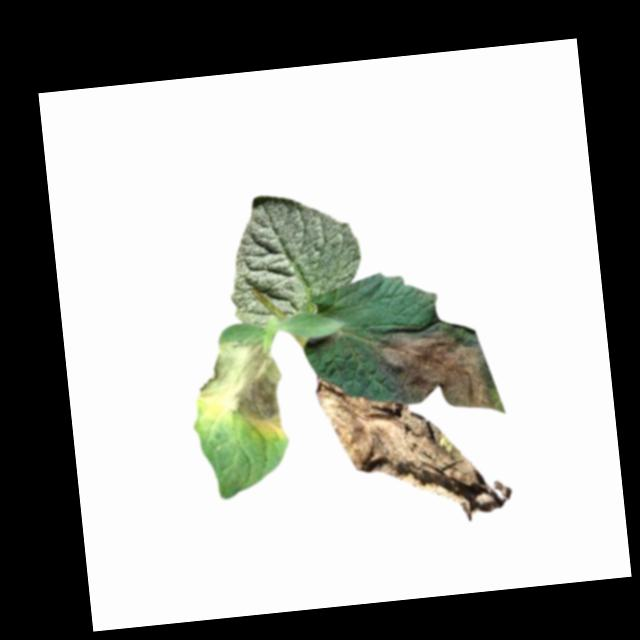Late_blight: (313, 359, 515, 536), (370, 317, 499, 422), (189, 335, 287, 438)
